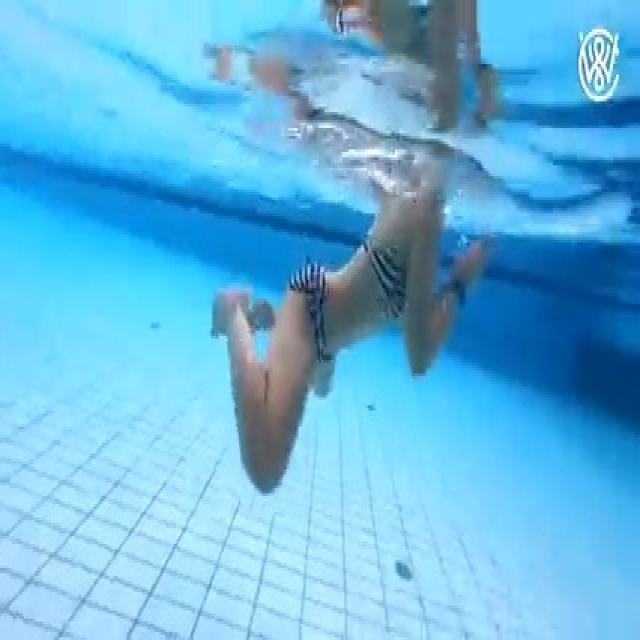Swimming: (207, 200, 491, 494)
